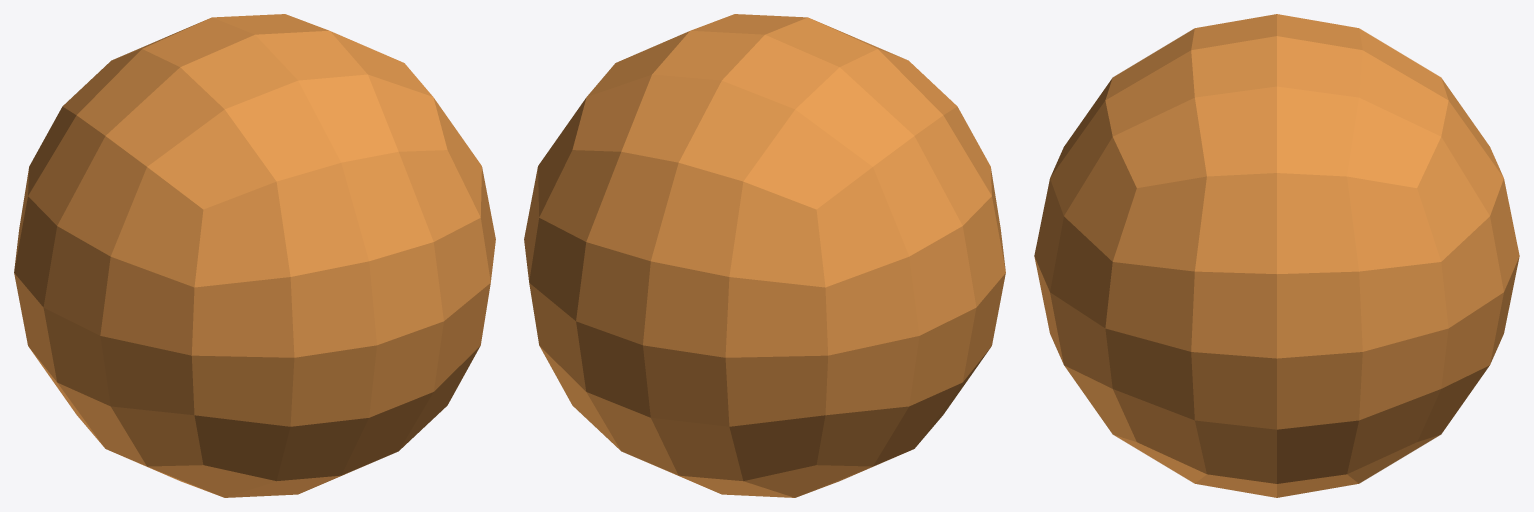
Rendered from Planet-10.glb.
3 renders of one model, left to right at view 1: azimuth 30°, elevation 25°; view 2: azimuth 150°, elevation 25°; view 3: azimuth 270°, elevation 25°, orthographic.
Visible parts, largest first — view 1: Roundcube; view 2: Roundcube; view 3: Roundcube.
Boxes of the visible parts, x1=… form: Roundcube: x1=14, y1=14, x2=495, y2=497; Roundcube: x1=524, y1=14, x2=1005, y2=497; Roundcube: x1=1034, y1=14, x2=1519, y2=497.
Bounding box in the file's own units: 2 × 2 × 2.
